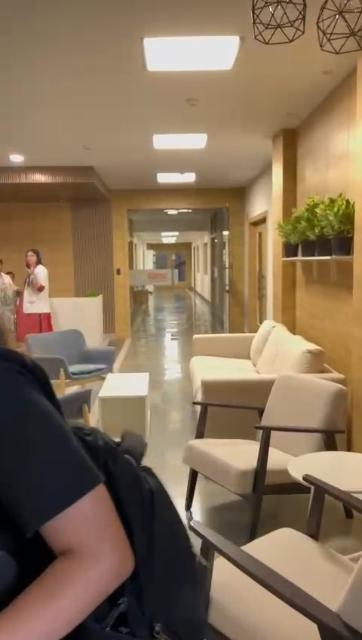floor: (122, 286, 225, 509), (282, 202, 361, 250)
moving-obj: (0, 438, 192, 640), (19, 244, 65, 340)
object: (186, 388, 362, 514), (196, 508, 361, 640), (182, 328, 342, 402), (49, 321, 98, 425), (100, 364, 154, 436)
